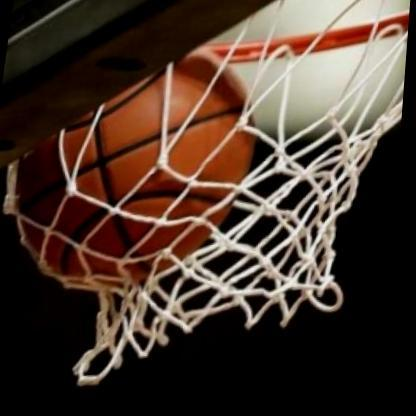basketball: (0, 17, 289, 320)
